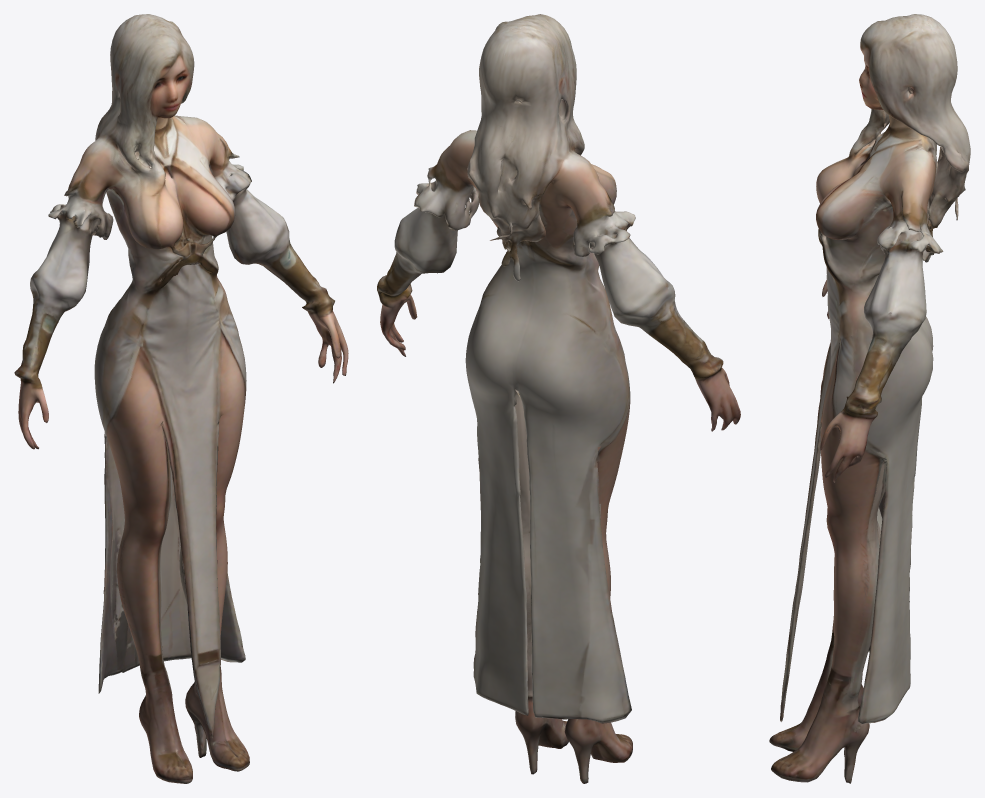
The model's file is mayari model.fbx.
3 renders of one model, left to right at view 1: azimuth 30°, elevation 25°; view 2: azimuth 150°, elevation 25°; view 3: azimuth 270°, elevation 25°, orthographic. The views are drawn at different scales.
Parts seen in each view (by area): view 1: Mesh1_Mesh1.015; view 2: Mesh1_Mesh1.015; view 3: Mesh1_Mesh1.015.
Part boxes in pixels (bbox=[...]): Mesh1_Mesh1.015: bbox=[14, 14, 348, 783]; Mesh1_Mesh1.015: bbox=[377, 14, 740, 783]; Mesh1_Mesh1.015: bbox=[769, 14, 970, 783].
Bounding box in the file's own units: 124 × 264 × 63.93.
